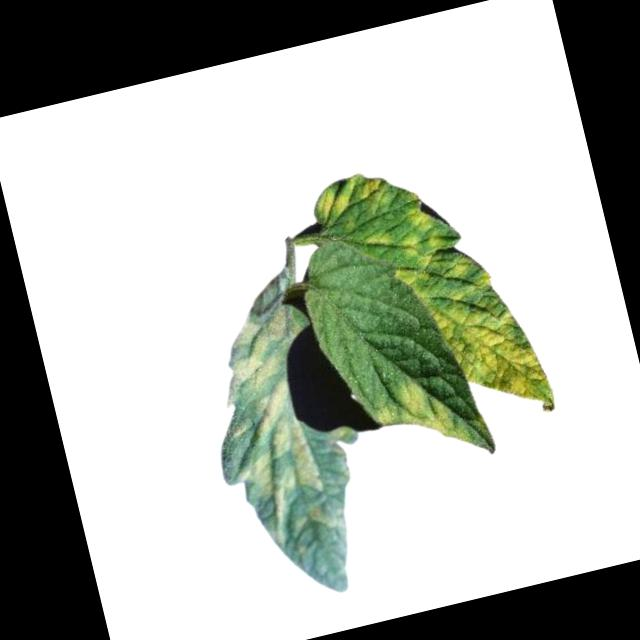Leaf_Mold: (182, 277, 346, 556), (430, 284, 559, 423), (371, 370, 473, 465), (386, 227, 447, 289), (444, 255, 497, 302), (307, 180, 354, 229), (355, 170, 400, 219), (407, 197, 442, 232)
